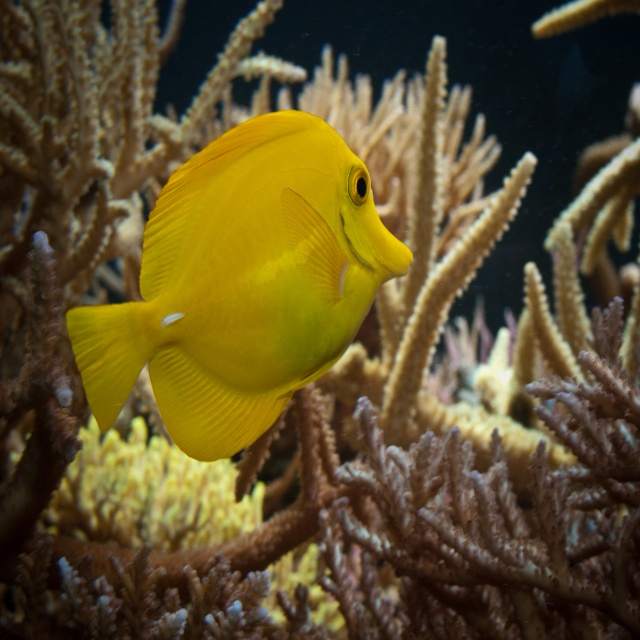Fish: (69, 110, 415, 460)
